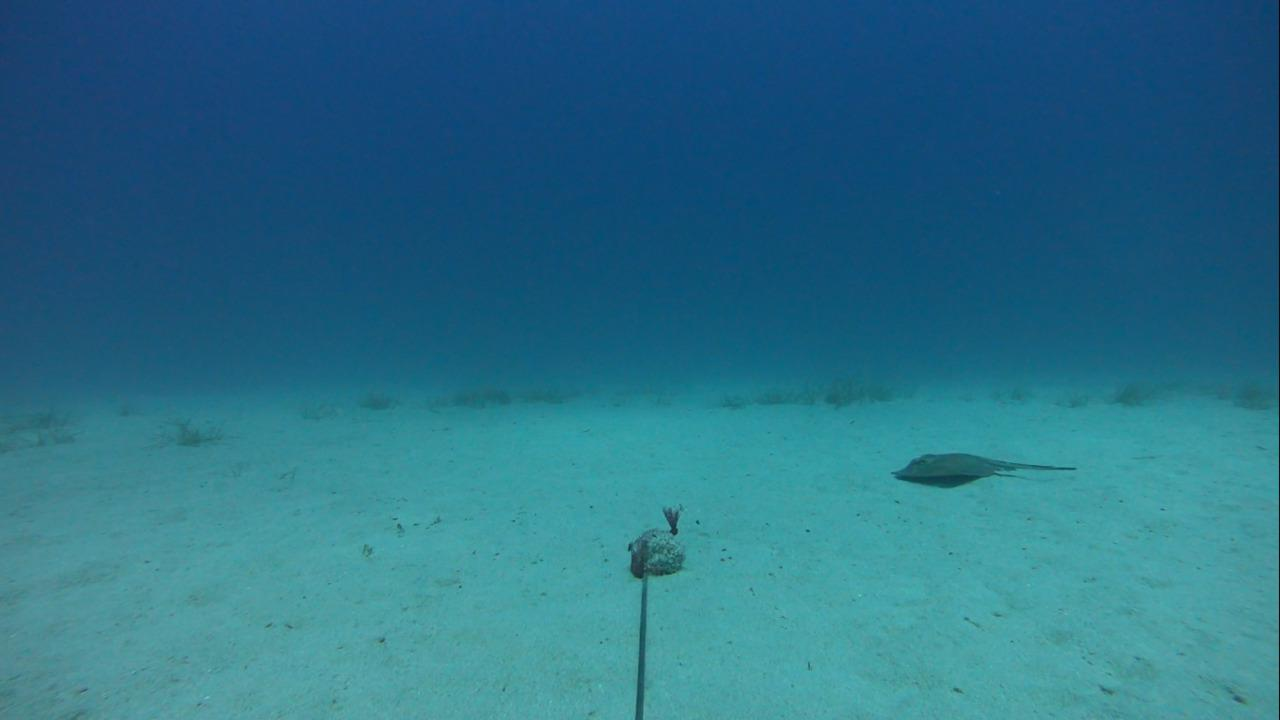myliobatis: (887, 448, 1082, 495)
